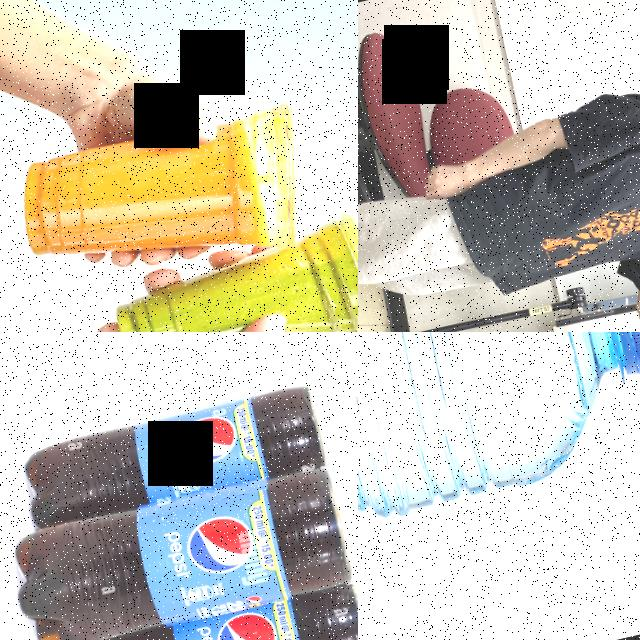bottle: (0, 431, 358, 640), (358, 332, 640, 579), (14, 350, 358, 537), (54, 553, 358, 640)
cup: (5, 98, 318, 306), (96, 209, 358, 332)
